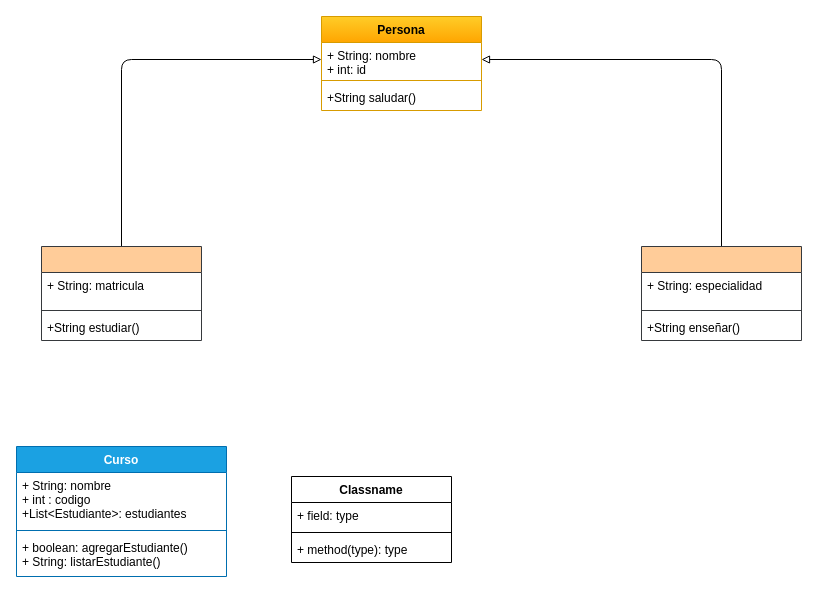
Some shapes in this 818 by 593 pixel diagram are drawn without their labels. Each missing label, with the box of its shape:
Estudiante: (40, 246, 202, 340)
Profesor: (640, 246, 802, 340)
